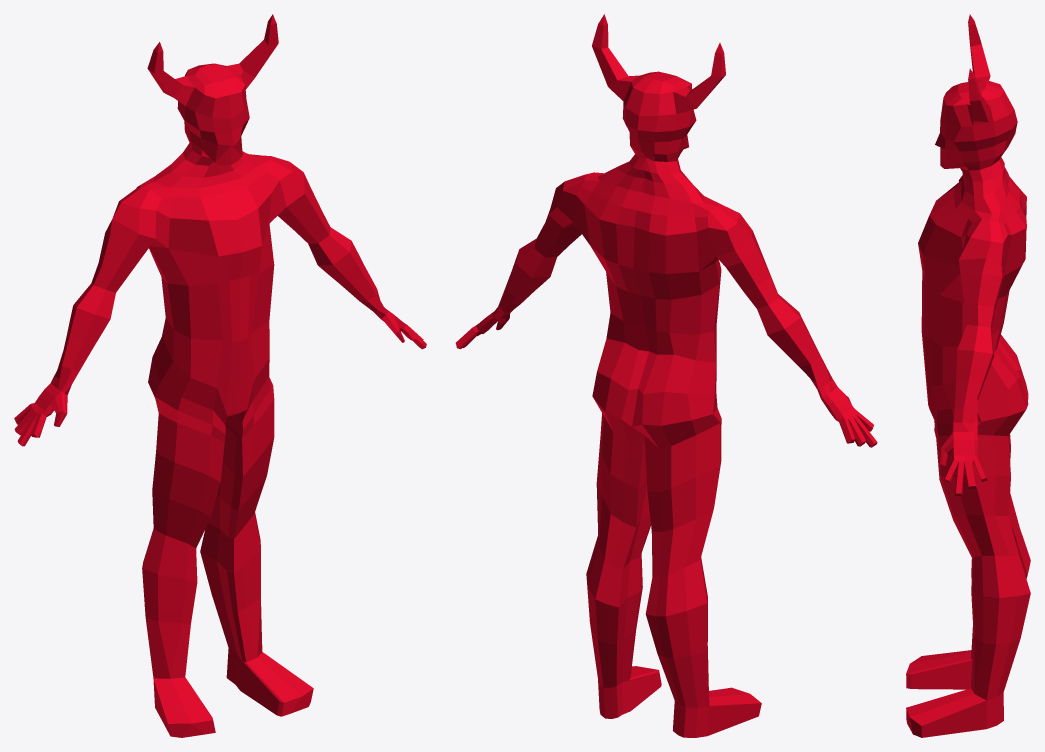
The model's file is Human_New2.fbx.
3 renders of one model, left to right at view 1: azimuth 30°, elevation 25°; view 2: azimuth 150°, elevation 25°; view 3: azimuth 270°, elevation 25°, orthographic. The views are drawn at different scales.
Visible parts, largest first — view 1: Cylinder; view 2: Cylinder; view 3: Cylinder.
Boxes of the visible parts, bbox=[...] form: Cylinder: bbox=[14, 14, 426, 737]; Cylinder: bbox=[455, 14, 877, 737]; Cylinder: bbox=[906, 14, 1030, 737].
Bounding box in the file's own units: 189 × 51.13 × 300.
